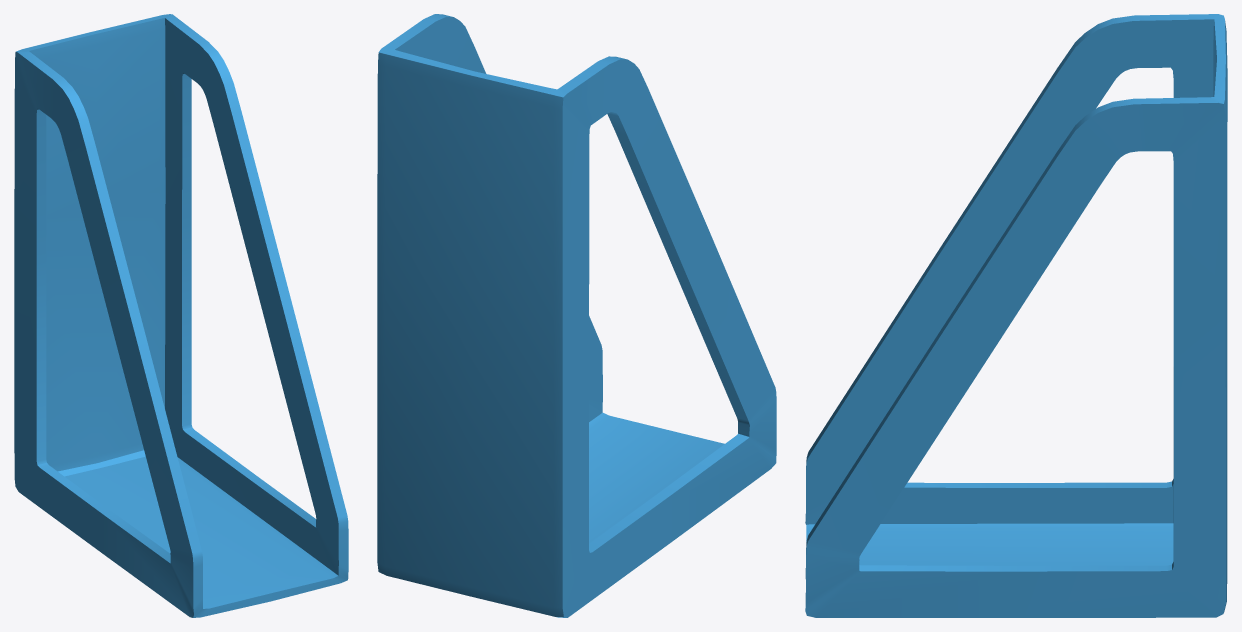
The model's file is file_blue.fbx.
3 renders of one model, left to right at view 1: azimuth 30°, elevation 25°; view 2: azimuth 150°, elevation 25°; view 3: azimuth 270°, elevation 25°, orthographic. The views are drawn at different scales.
Visible parts, largest first — view 1: folder stand; view 2: folder stand; view 3: folder stand.
Part boxes in pixels (bbox=[...]): folder stand: bbox=[14, 14, 348, 617]; folder stand: bbox=[377, 14, 776, 617]; folder stand: bbox=[805, 14, 1227, 617].
Bounding box in the file's own units: 1369 × 3706 × 2741.
